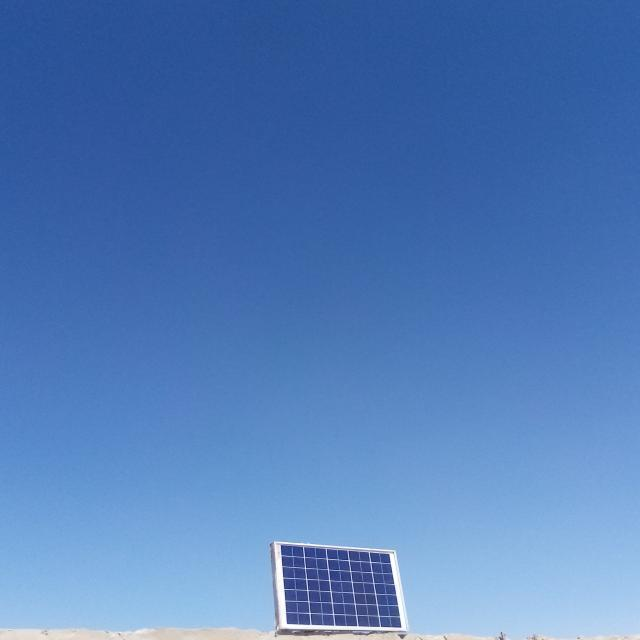Normal Solar Panel: (275, 542, 409, 630)
